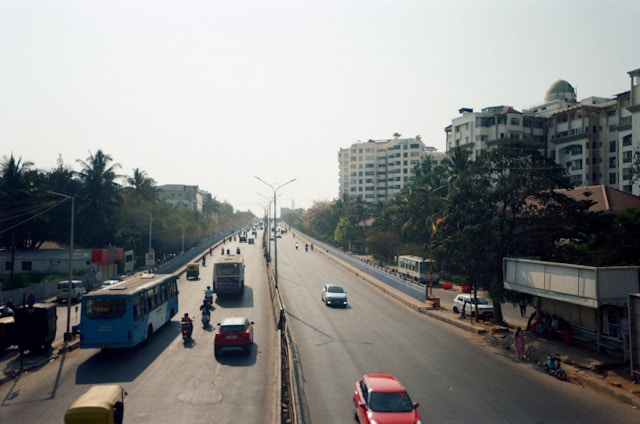bus: (73, 253, 184, 353), (210, 254, 249, 304), (391, 251, 439, 284)
car: (345, 371, 428, 424), (211, 311, 265, 359), (67, 386, 141, 421), (316, 272, 363, 316), (450, 291, 494, 322), (535, 349, 571, 384), (58, 275, 89, 309), (183, 260, 206, 282)
motorcycle: (172, 308, 206, 346), (199, 283, 220, 313)
